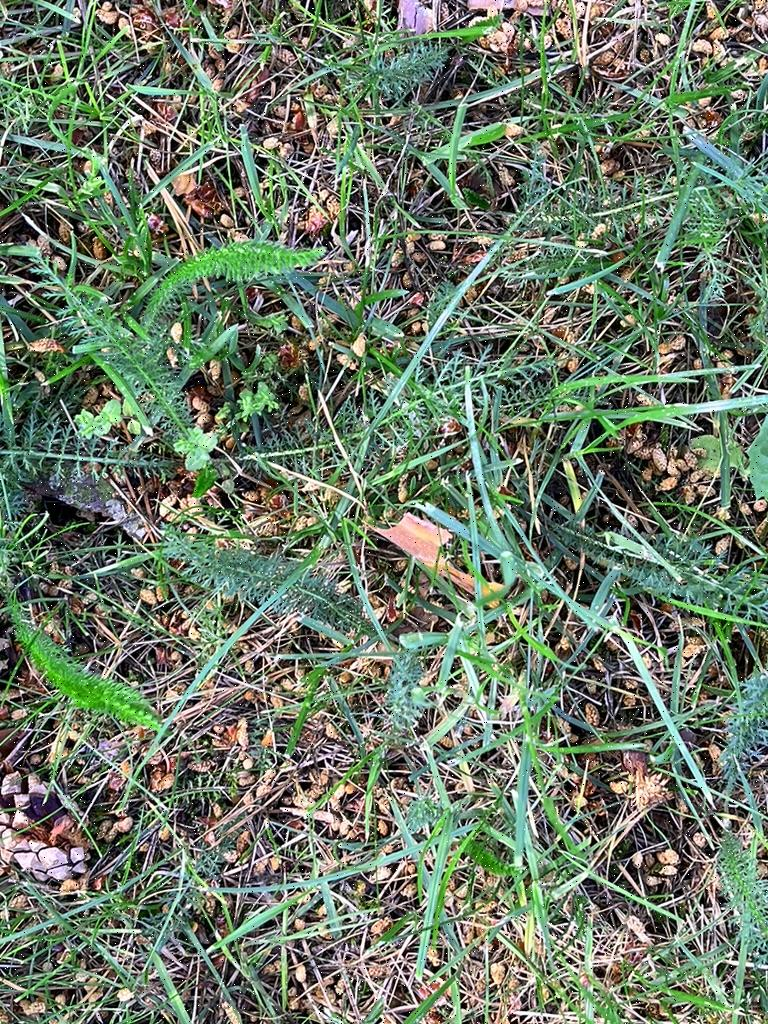pine: (0, 755, 103, 905)
